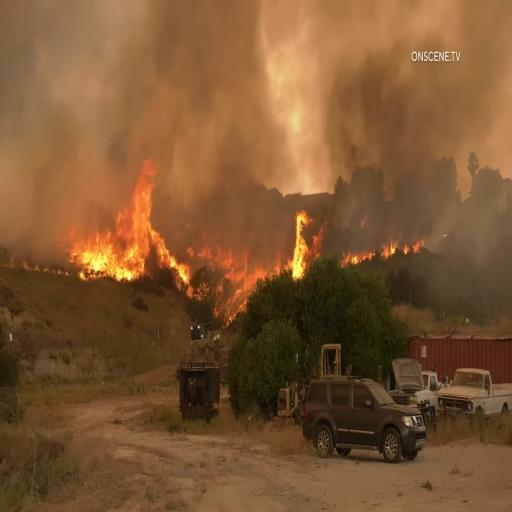fire: (64, 158, 183, 293), (286, 210, 321, 279)
smoke: (141, 8, 258, 142), (331, 49, 409, 180), (262, 30, 321, 199)
